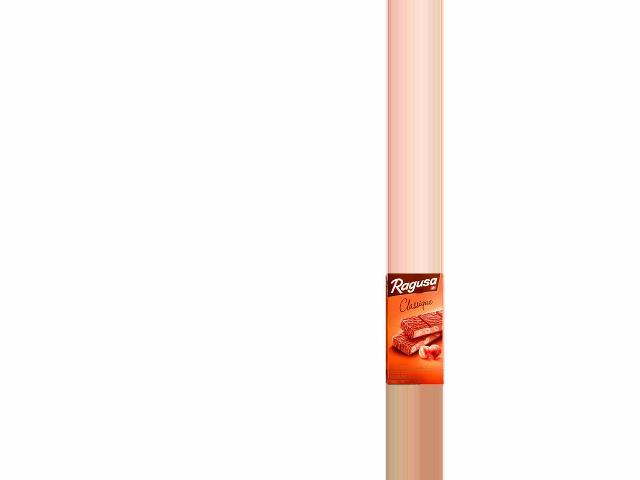chocolate: (382, 274, 450, 385)
